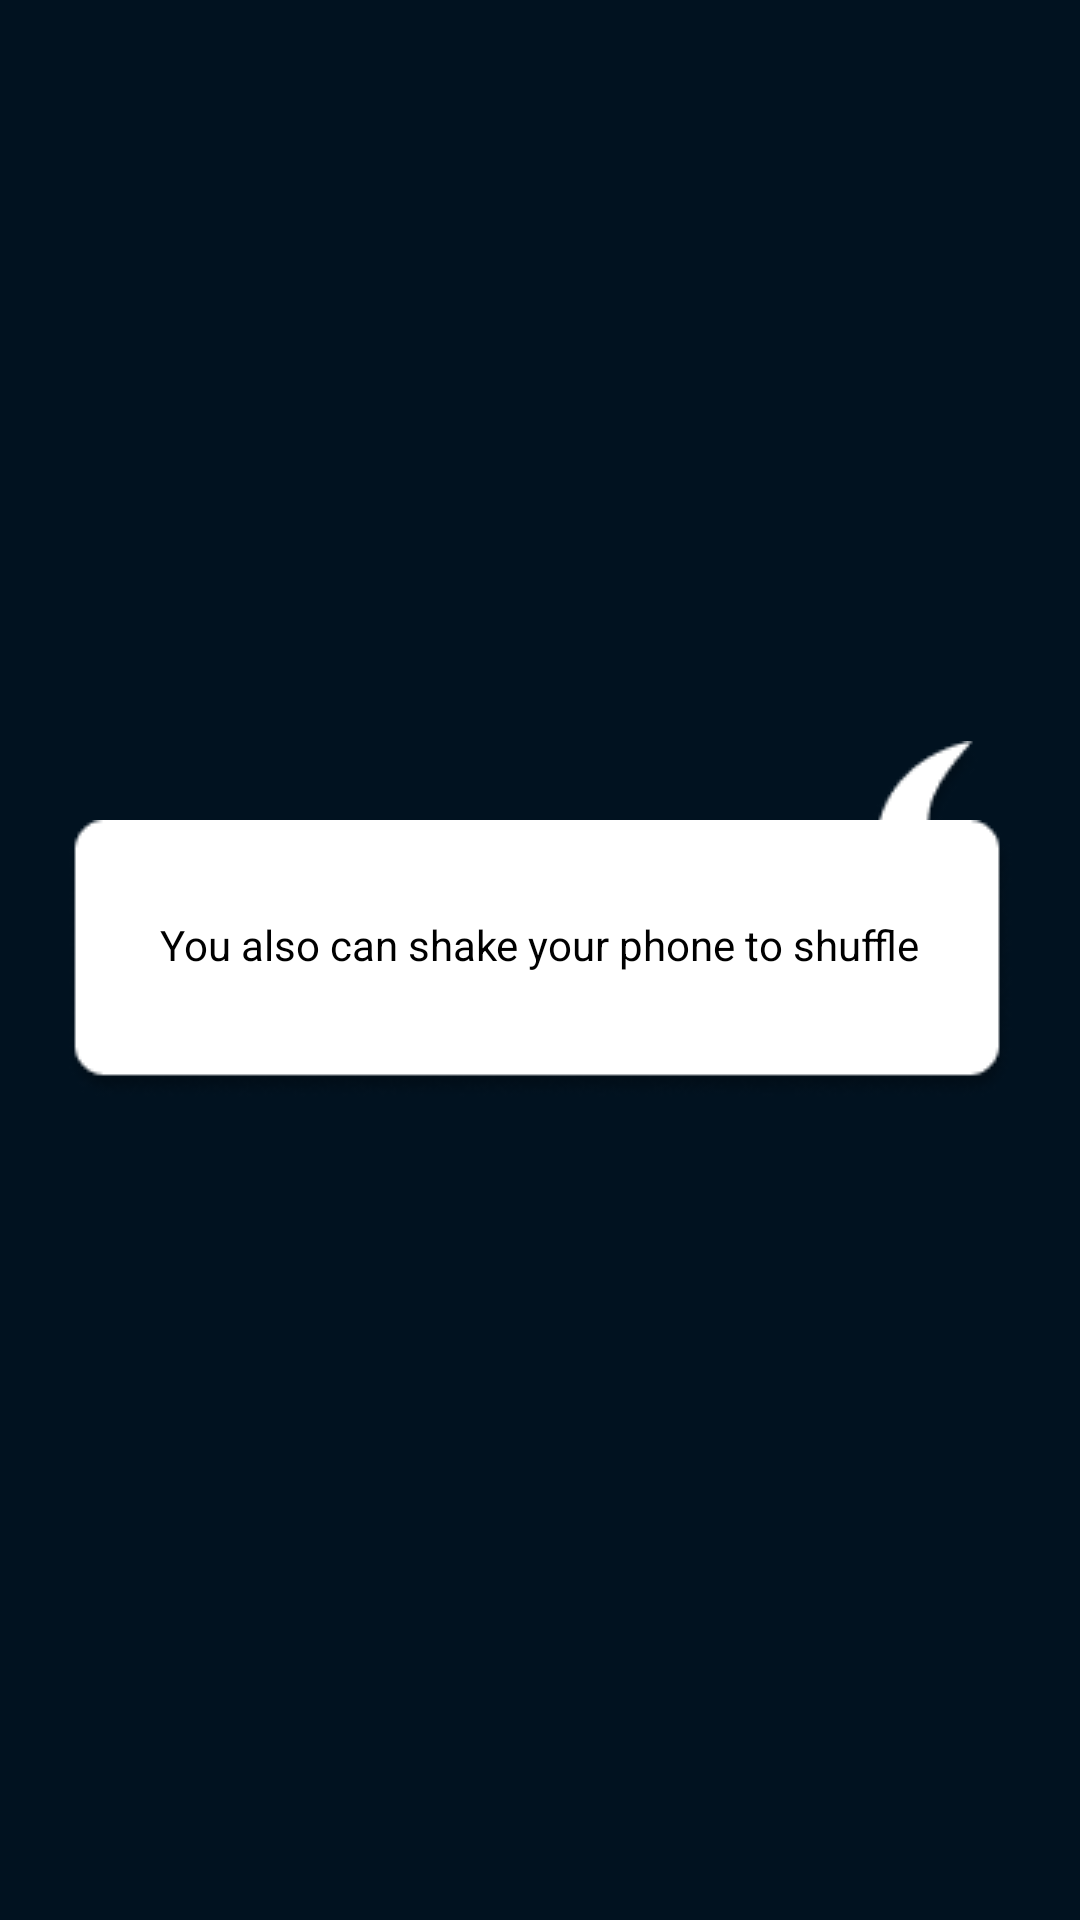

Where to tap for icons on this 1080*1920 app screen, as (x=x, y=y):
arrow tut: (x=925, y=795)
